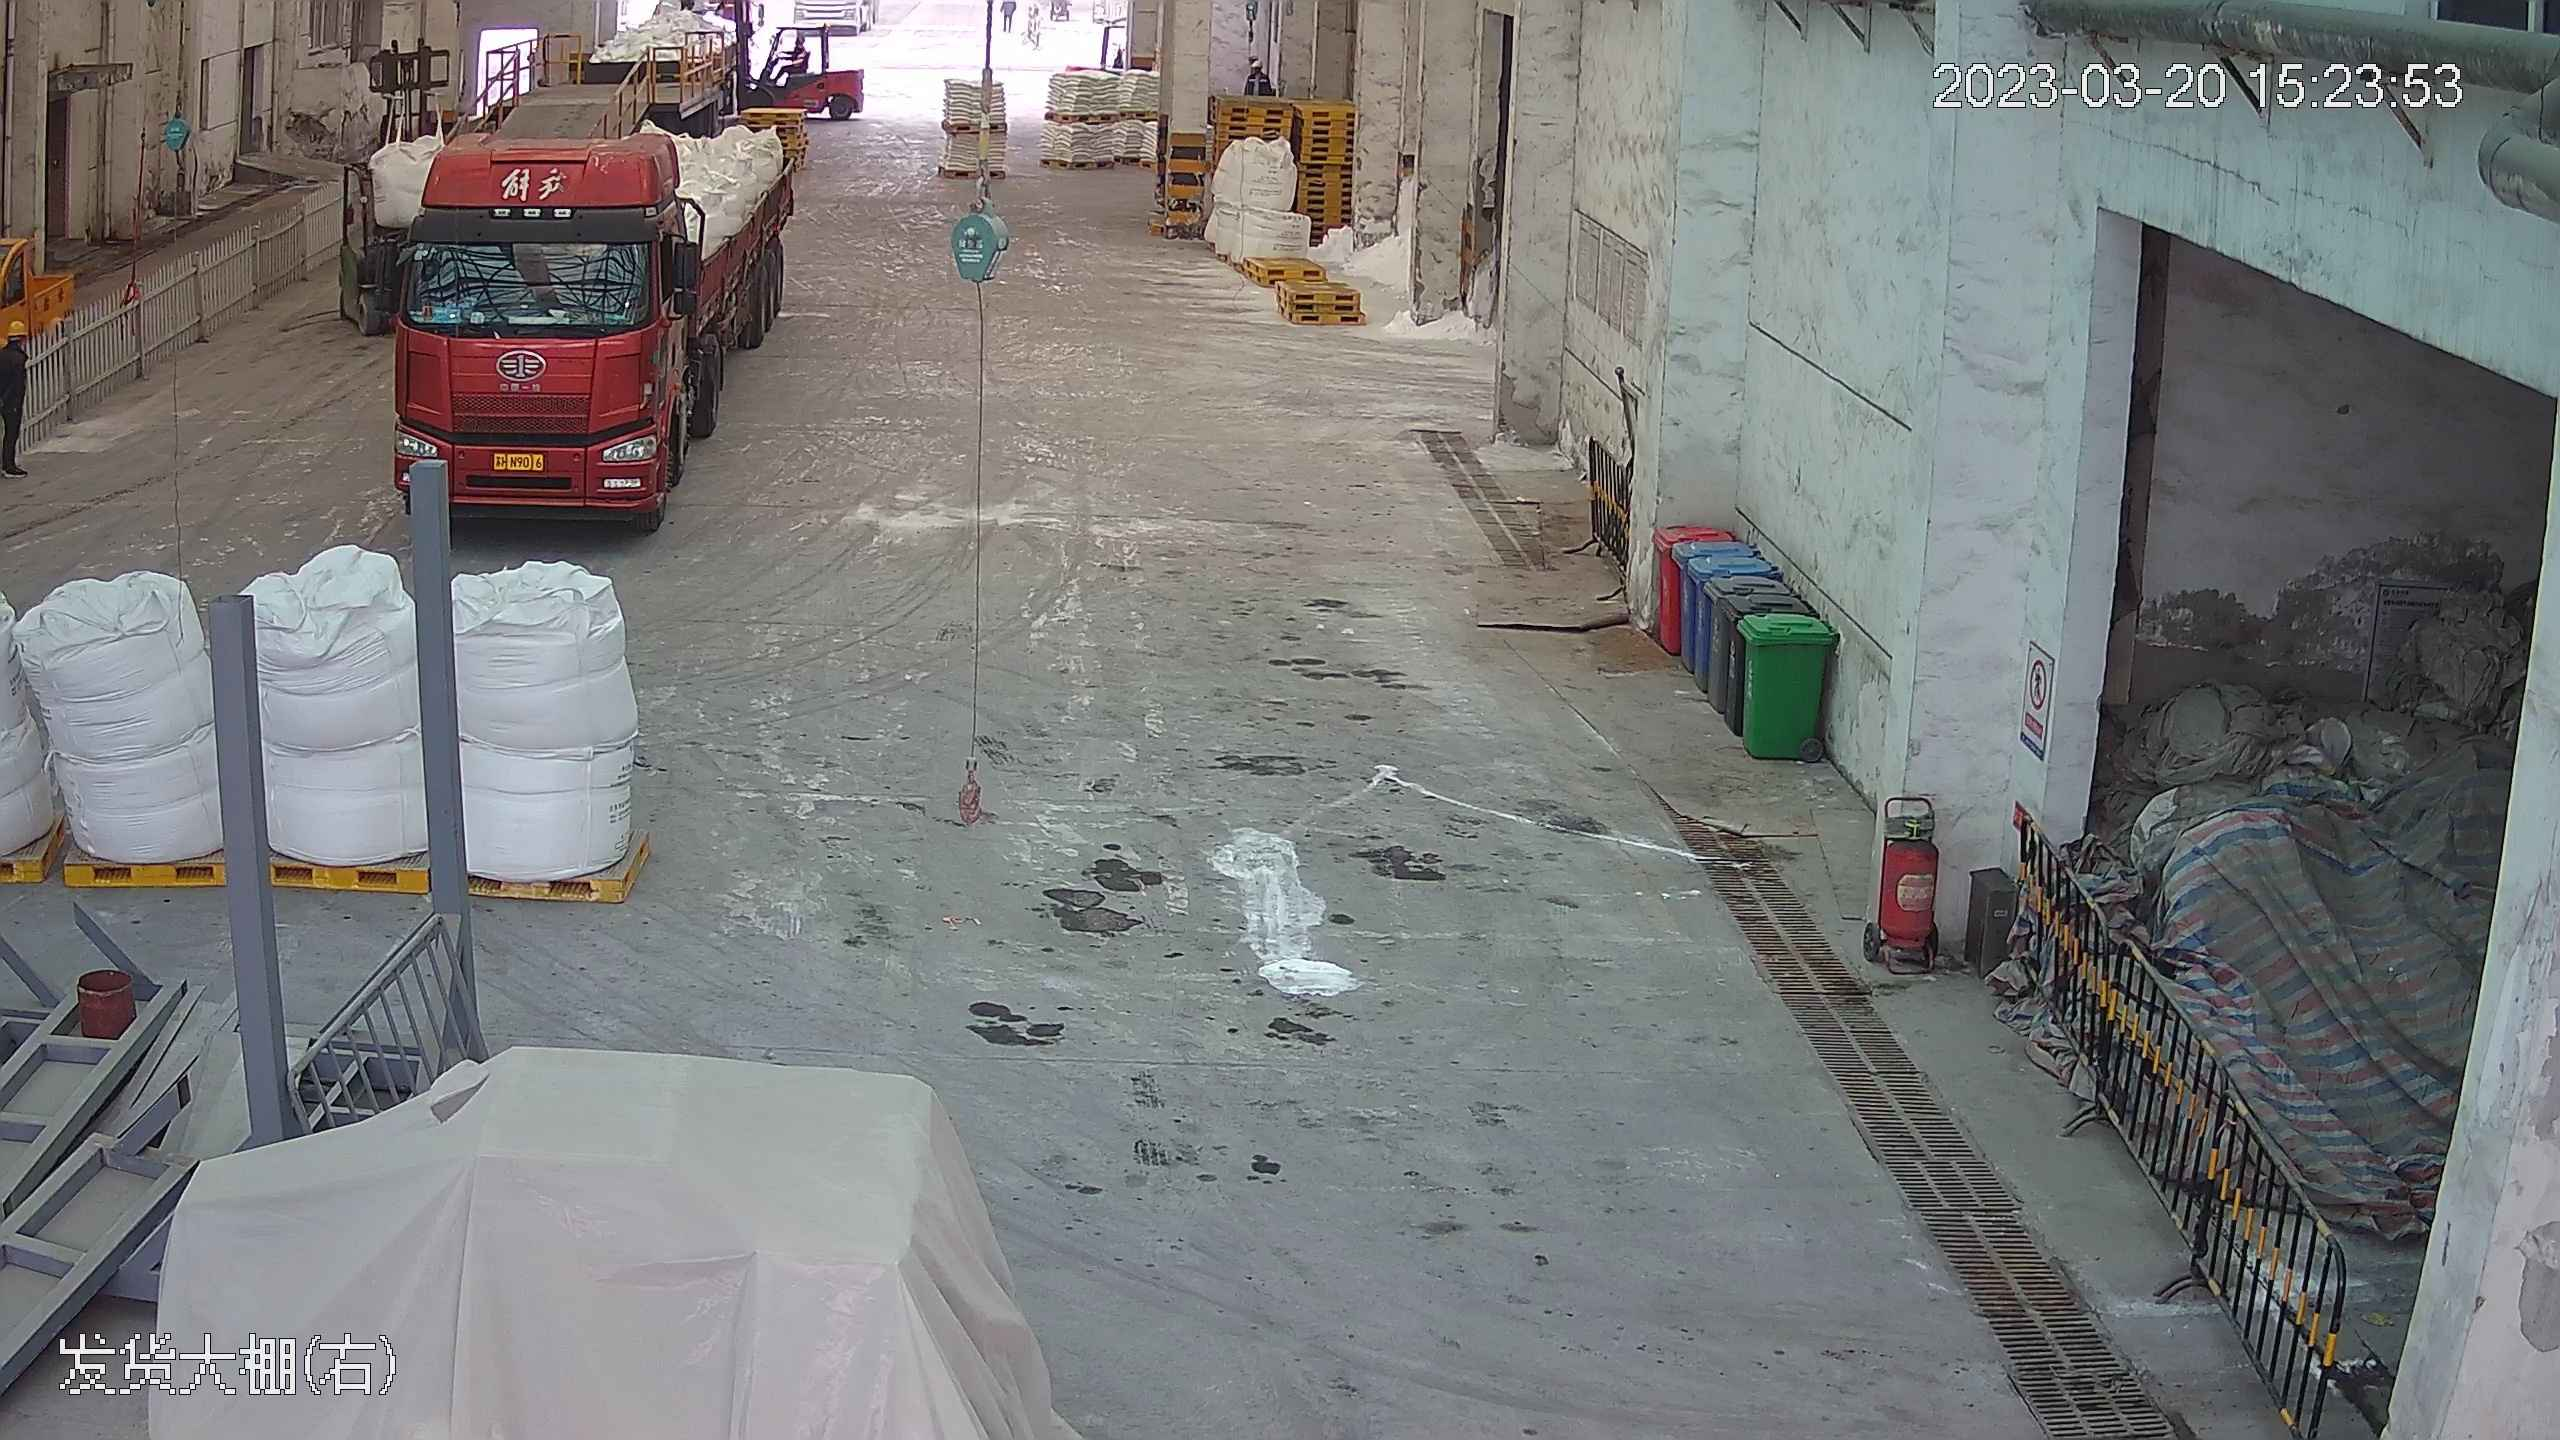head: (1, 314, 31, 368)
helmet: (5, 320, 27, 339)
people: (1, 317, 36, 475)
truck: (370, 50, 808, 521)
